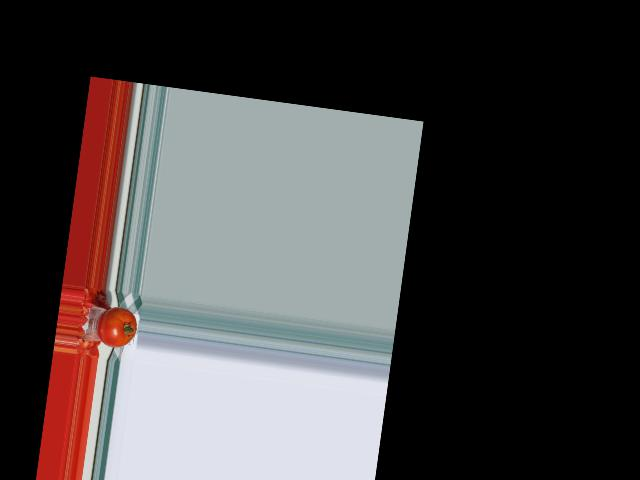tomato: (94, 304, 139, 350)
